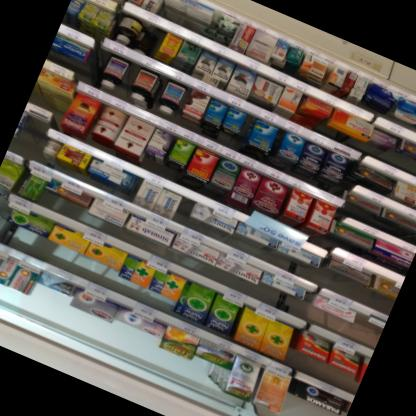empty_space: (14, 117, 50, 161), (346, 311, 385, 348), (390, 148, 416, 187), (117, 63, 139, 99), (136, 21, 165, 48)
